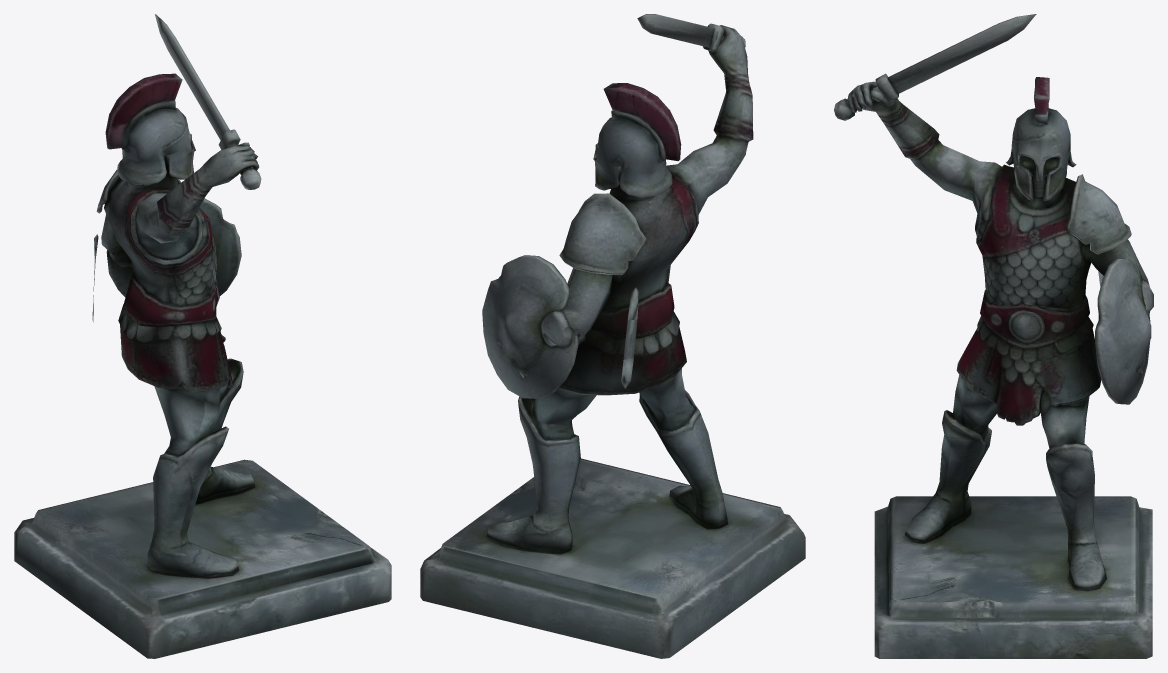
Rendered from statue.glb.
3 renders of one model, left to right at view 1: azimuth 30°, elevation 25°; view 2: azimuth 150°, elevation 25°; view 3: azimuth 270°, elevation 25°, orthographic.
Visible parts, largest first — view 1: model; view 2: model; view 3: model.
Part boxes in pixels (x1,y1,x2,y2): model: (14,14,391,658); model: (420,14,805,658); model: (834,14,1153,658).
Bounding box in the file's own units: 0.4521 × 1 × 0.5108.
Materials: 1 (1 with a texture image).
